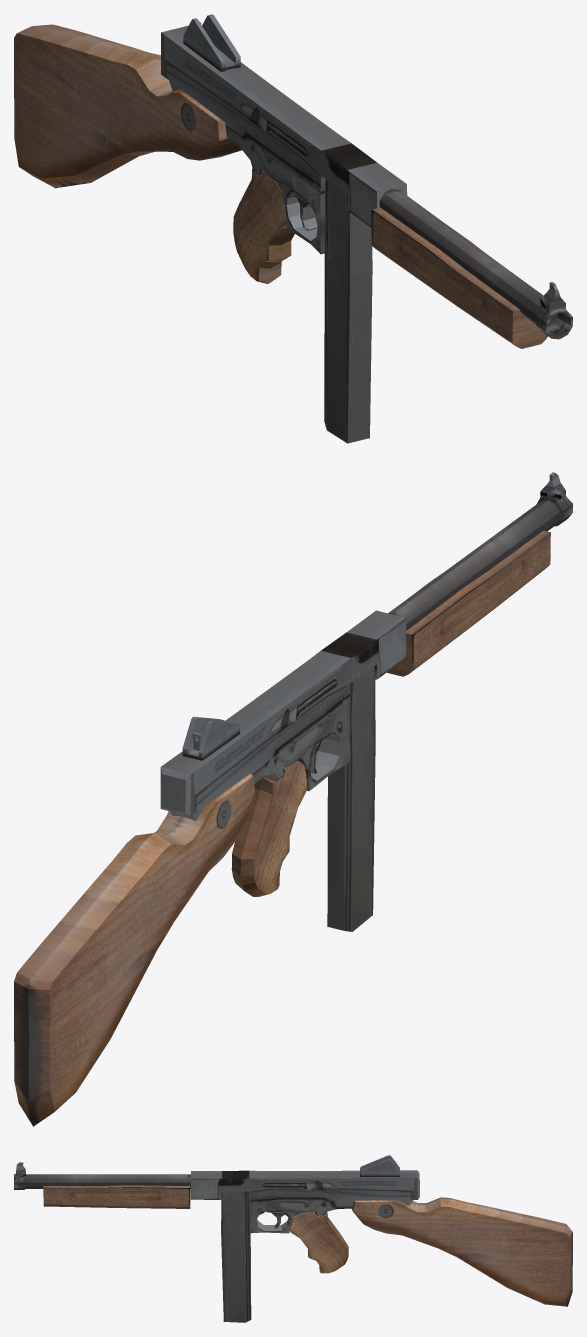
Rendered from Thompson.fbx.
The picture shows the model from 3 angles, top to bottom: view 1: azimuth 30°, elevation 25°; view 2: azimuth 150°, elevation 25°; view 3: azimuth 270°, elevation 25°; orthographic projection. The views are drawn at different scales.
Parts seen in each view (by area): view 1: Cube.003, Cube.004, Cube.001, Cube.006, Cube.002, Cube.005; view 2: Cube.004, Cube.003, Cube.001, Cube.006, Cube.002, Cube.005; view 3: Cube.004, Cube.003, Cube.001, Cube.006, Cube.002, Cube.005.
Boxes of the visible parts, <box> form: Cube.003: <box>161,25,572,339</box>; Cube.004: <box>14,24,241,188</box>; Cube.001: <box>324,179,372,443</box>; Cube.006: <box>371,207,547,348</box>; Cube.002: <box>233,168,294,283</box>; Cube.005: <box>183,14,240,71</box>; Cube.004: <box>14,773,254,1126</box>; Cube.003: <box>160,472,572,820</box>; Cube.001: <box>327,666,375,931</box>; Cube.006: <box>387,530,550,676</box>; Cube.002: <box>231,761,306,896</box>; Cube.005: <box>182,716,239,760</box>; Cube.004: <box>351,1197,572,1306</box>; Cube.003: <box>14,1162,419,1233</box>; Cube.001: <box>221,1191,251,1322</box>; Cube.006: <box>43,1185,190,1208</box>; Cube.002: <box>289,1212,348,1273</box>; Cube.005: <box>360,1155,399,1176</box>.
Size of the model in its own units: 0.4049 by 3.01 by 9.35.
